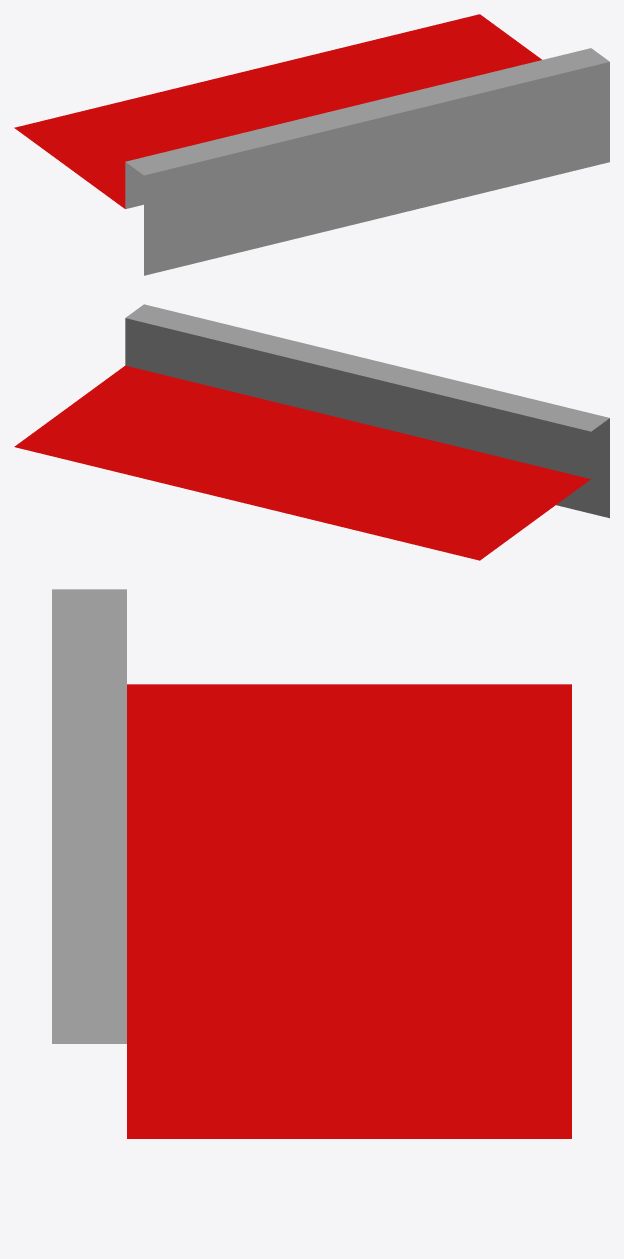
Rendered from EN_P_L2Dam_01_19G4_01_19.fbx.
3 renders of one model, top to bottom at view 1: azimuth 30°, elevation 25°; view 2: azimuth 150°, elevation 25°; view 3: azimuth 270°, elevation 25°, orthographic. The views are drawn at different scales.
Parts seen in each view (by area): view 1: Dam; view 2: Dam; view 3: Dam.
Boxes of the visible parts, x1,y1,x2,y2 form: Dam: [14, 14, 609, 275]; Dam: [14, 304, 609, 560]; Dam: [52, 589, 571, 1138].
Bounding box in the file's own units: 402 × 82.81 × 195.
